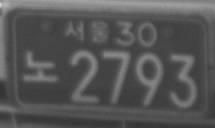0: (137, 20, 158, 49)
2: (68, 47, 101, 105)
3: (168, 52, 199, 110), (112, 18, 137, 47)
7: (101, 48, 132, 105)
9: (133, 50, 166, 108)
노: (21, 49, 60, 84)
서울_O: (62, 17, 110, 45)
